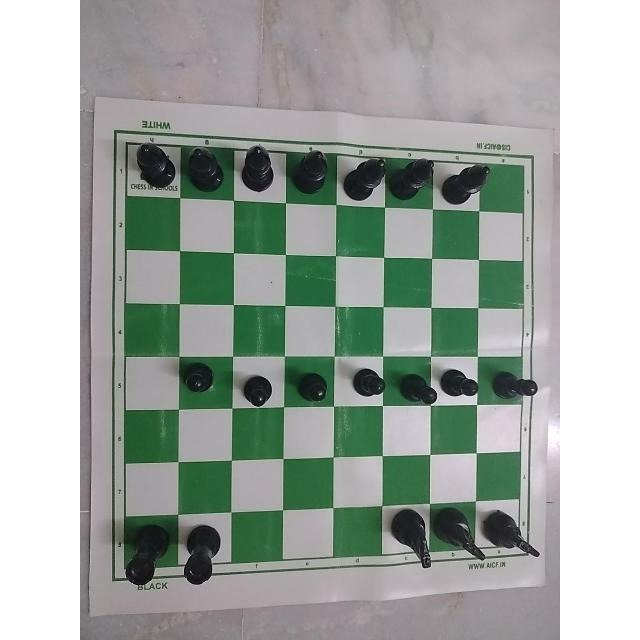black-bishop: (288, 133, 337, 203), (392, 143, 436, 212), (346, 140, 388, 209), (184, 135, 224, 205), (444, 155, 494, 209), (238, 136, 278, 200), (131, 140, 173, 196)
black-knight: (485, 497, 543, 569), (436, 502, 484, 584), (391, 507, 434, 577)
black-pawn: (488, 357, 544, 413), (440, 348, 482, 412), (395, 358, 438, 416), (236, 358, 273, 418), (176, 353, 218, 403), (291, 361, 331, 411), (353, 360, 389, 408)
black-rook: (111, 523, 175, 590), (178, 520, 225, 589)
